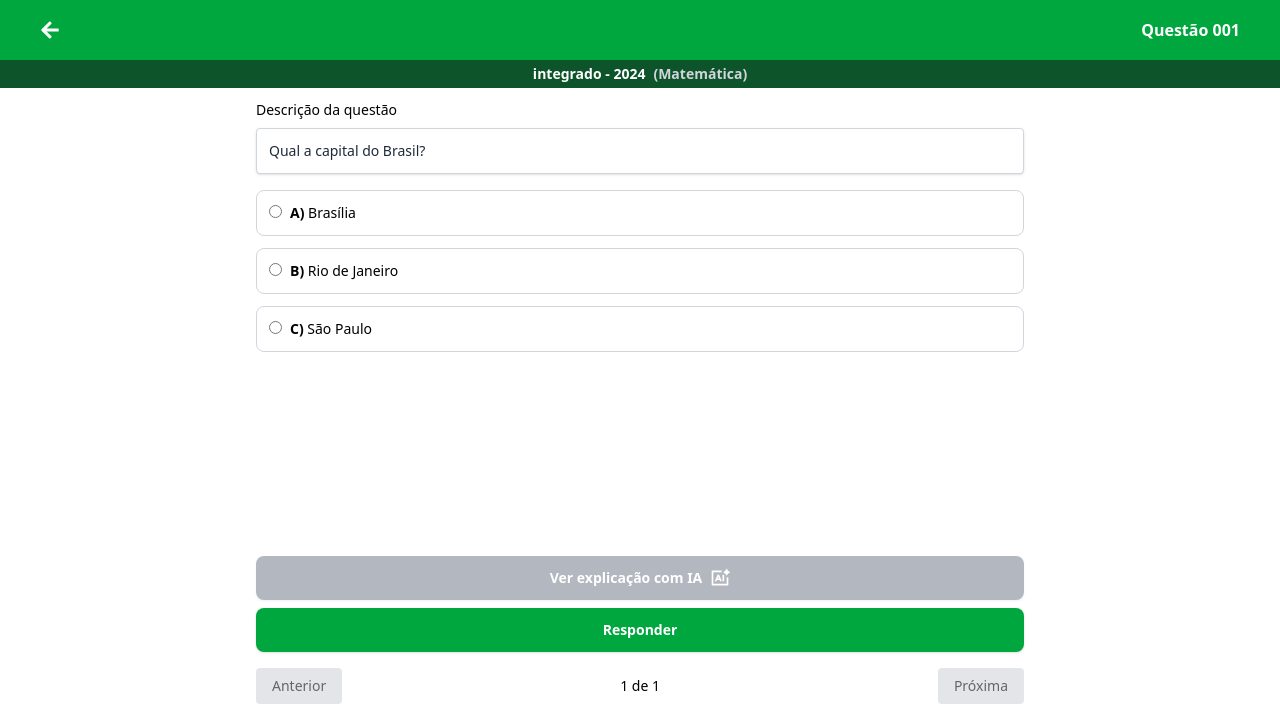
Test: Resolver Content › Responder questao › deve mostrar botao de explicacao com IA apos responder
Click the text "a) Brasília" at (332, 212), box [256,190,1024,236]
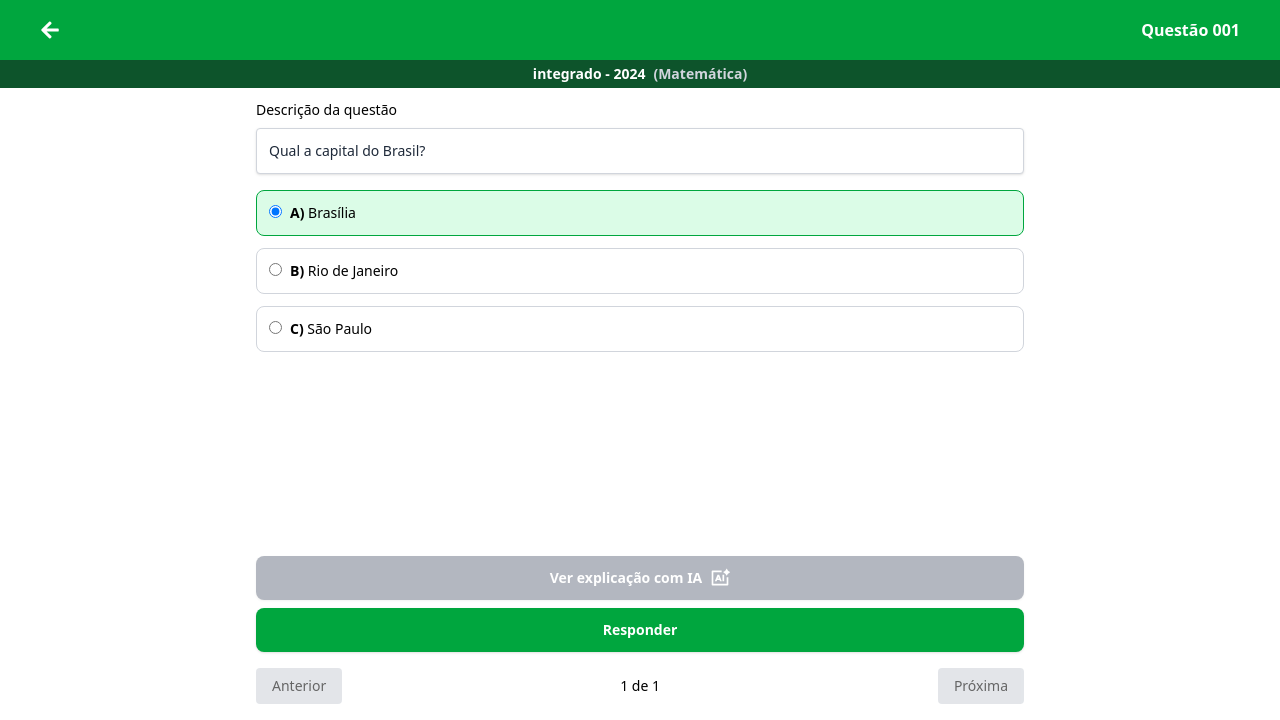
Click the button "Responder" at (640, 630), box [256,608,1024,652]
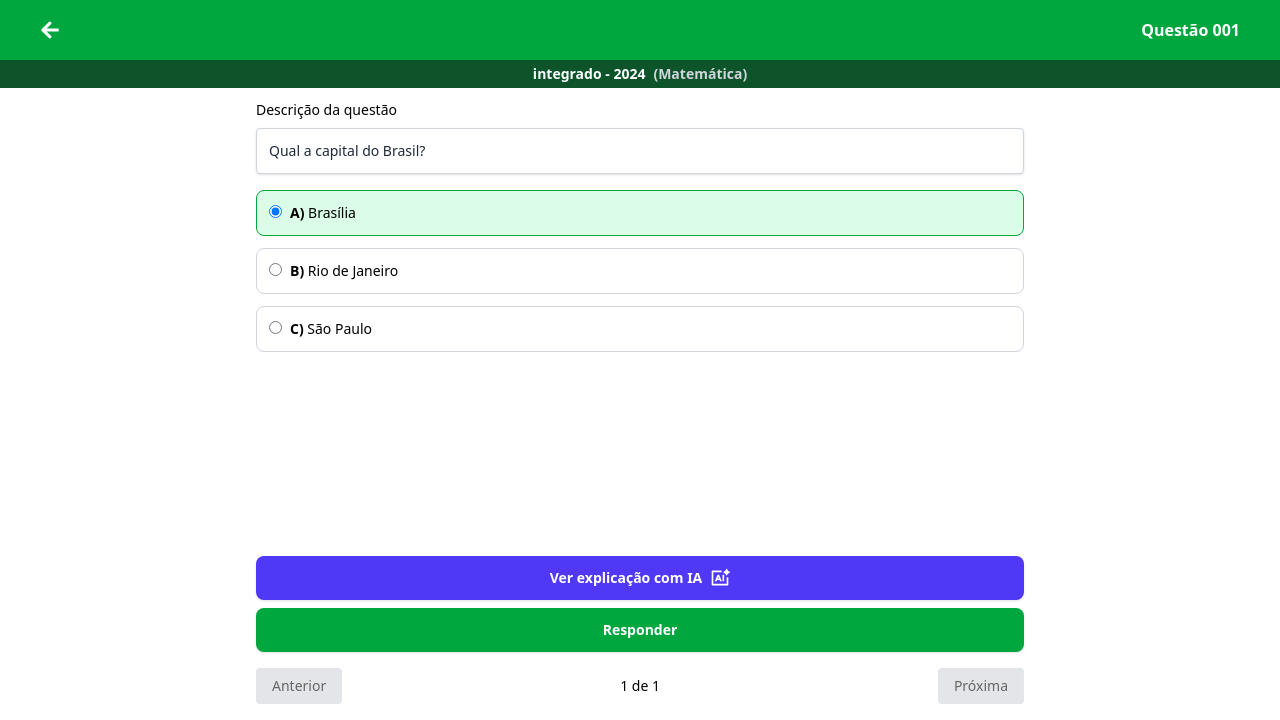
Expected: the button "Ver explicação com IA" is enabled, [256,556,1024,600]
